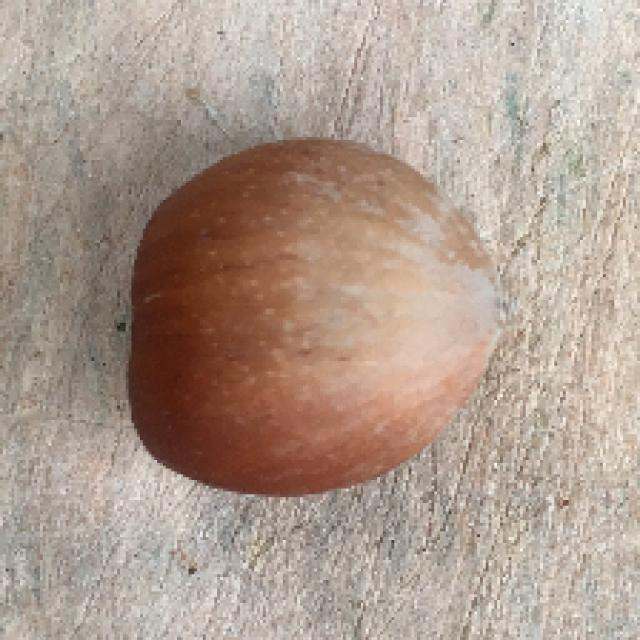qualityHazelnut: (127, 132, 506, 501)
